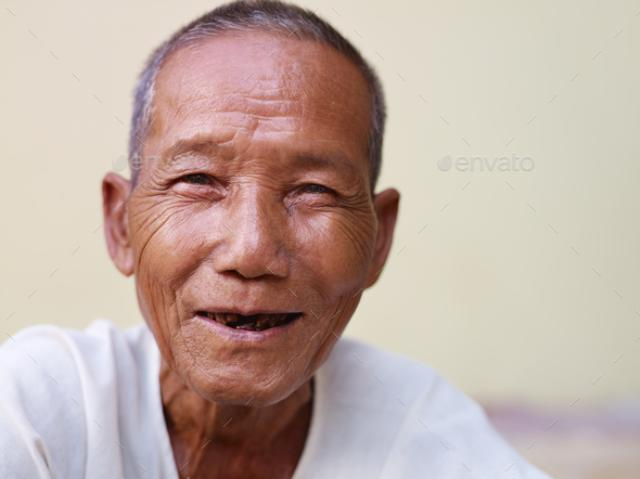crows_feet: (139, 172, 169, 206), (336, 190, 364, 222)
forehead: (243, 92, 277, 136)
frown_line: (239, 158, 275, 192)
gummy_smile: (162, 287, 185, 333)
masseter: (131, 222, 159, 268)
